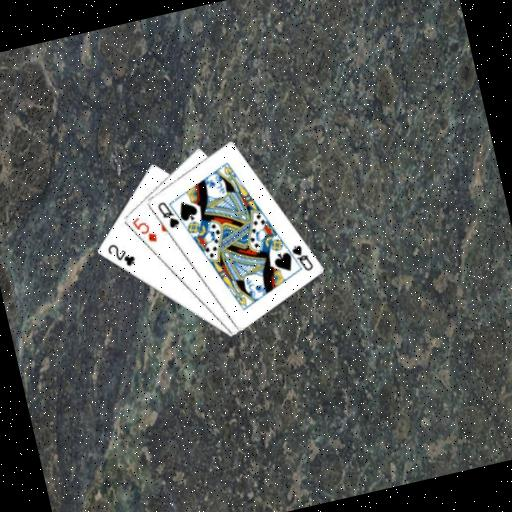2C: (103, 237, 138, 273)
5D: (127, 211, 159, 248)
QS: (153, 196, 182, 233), (287, 239, 316, 276)
